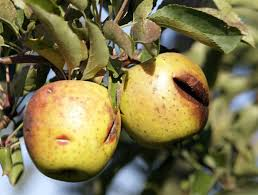damaged_apple: (25, 83, 123, 179), (117, 54, 215, 145)
